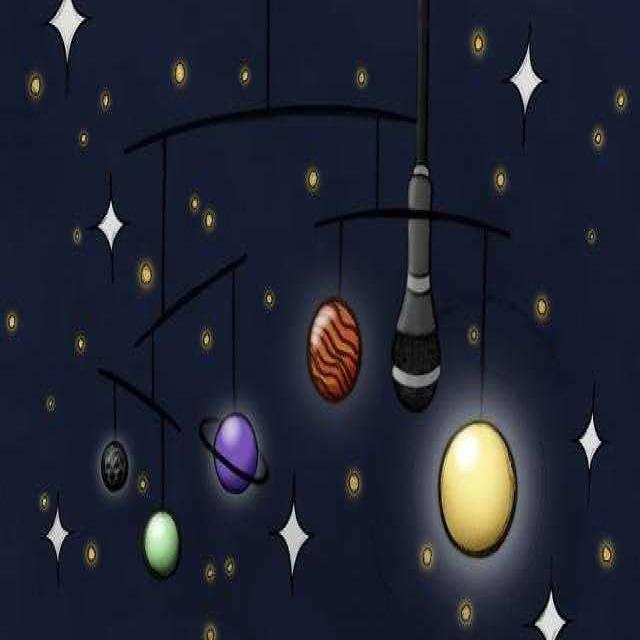microphone: (392, 6, 442, 412)
